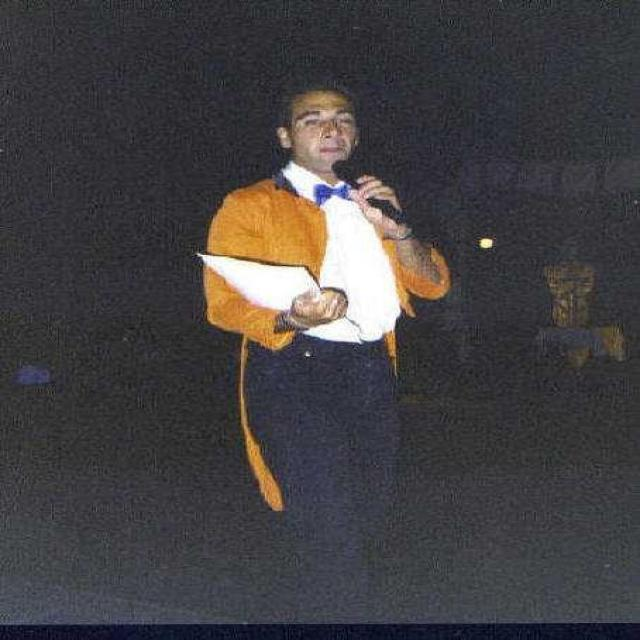microphone: (328, 161, 406, 223)
